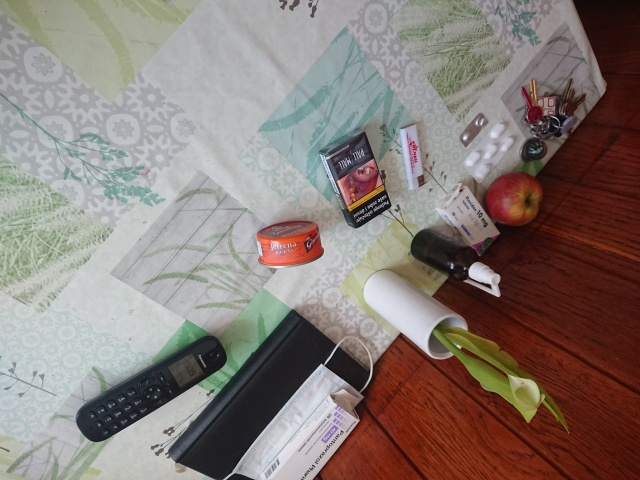Gavrilovic Pork Liver Pate 100g: (253, 218, 326, 270)
